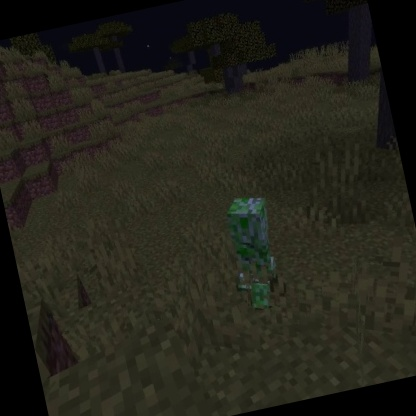creeper: (215, 189, 293, 320)
